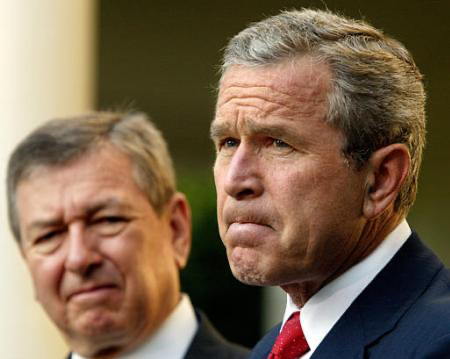Face: (194, 75, 361, 291), (15, 182, 173, 347)
